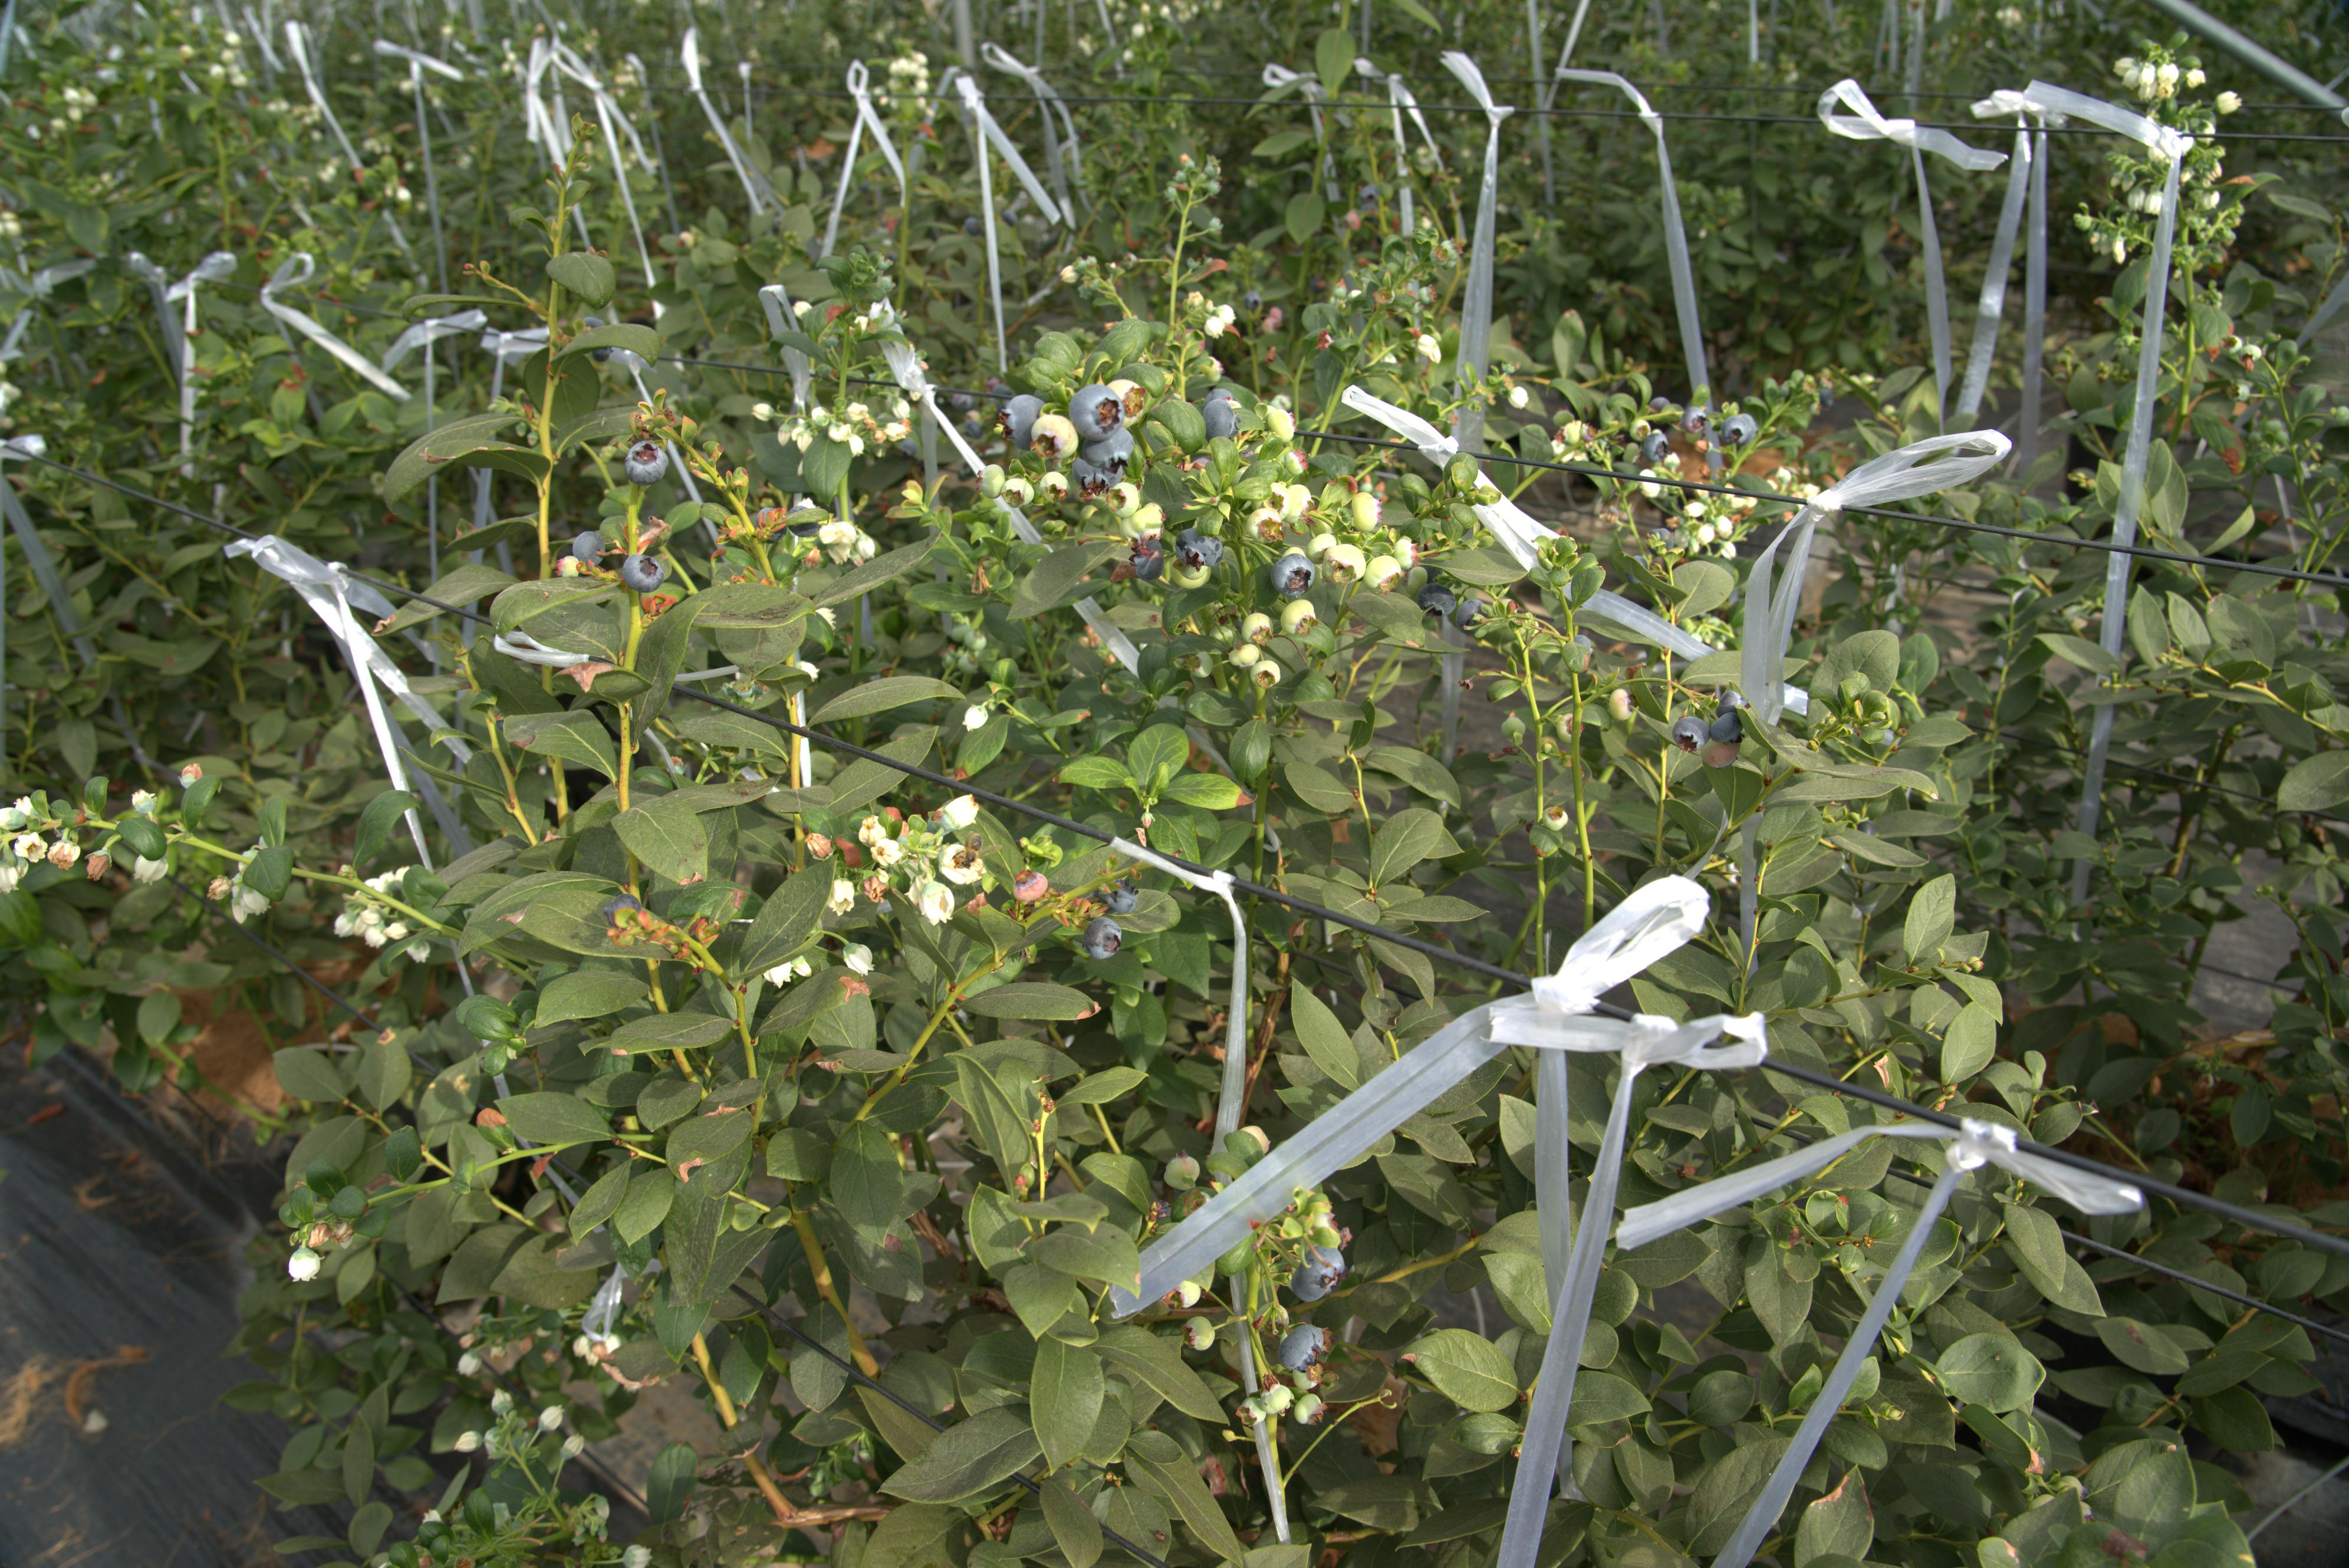ripe-blueberries: (1295, 1249, 1343, 1302), (1071, 388, 1124, 436), (625, 437, 672, 485), (1278, 1325, 1329, 1368), (1080, 434, 1139, 465), (623, 555, 665, 593), (1080, 920, 1122, 959), (1174, 535, 1222, 569), (1073, 458, 1122, 490), (1005, 395, 1034, 446), (1273, 556, 1311, 595), (1673, 719, 1707, 756), (572, 530, 602, 570), (1099, 889, 1141, 915), (1420, 586, 1455, 618), (1710, 714, 1743, 744), (1206, 402, 1232, 439), (1680, 406, 1707, 432), (1724, 416, 1747, 446), (1645, 436, 1670, 460), (1717, 689, 1738, 712)
semi-ripe-blueberries: (1034, 415, 1078, 458), (1364, 553, 1406, 597), (1278, 483, 1318, 528), (1162, 1151, 1203, 1190), (1327, 544, 1365, 583), (1266, 408, 1302, 444), (998, 476, 1036, 511), (1248, 506, 1283, 544), (1259, 1379, 1297, 1414), (1609, 688, 1638, 726), (1350, 490, 1378, 530), (1236, 1395, 1267, 1430), (1392, 535, 1421, 572), (1295, 1395, 1327, 1428), (1185, 1316, 1215, 1351), (1040, 472, 1069, 506), (1110, 483, 1139, 514), (1243, 1122, 1273, 1153), (1539, 805, 1572, 833), (977, 462, 1003, 497), (1556, 712, 1584, 744), (1169, 1281, 1201, 1309), (1309, 534, 1337, 562), (1292, 1363, 1320, 1391)
